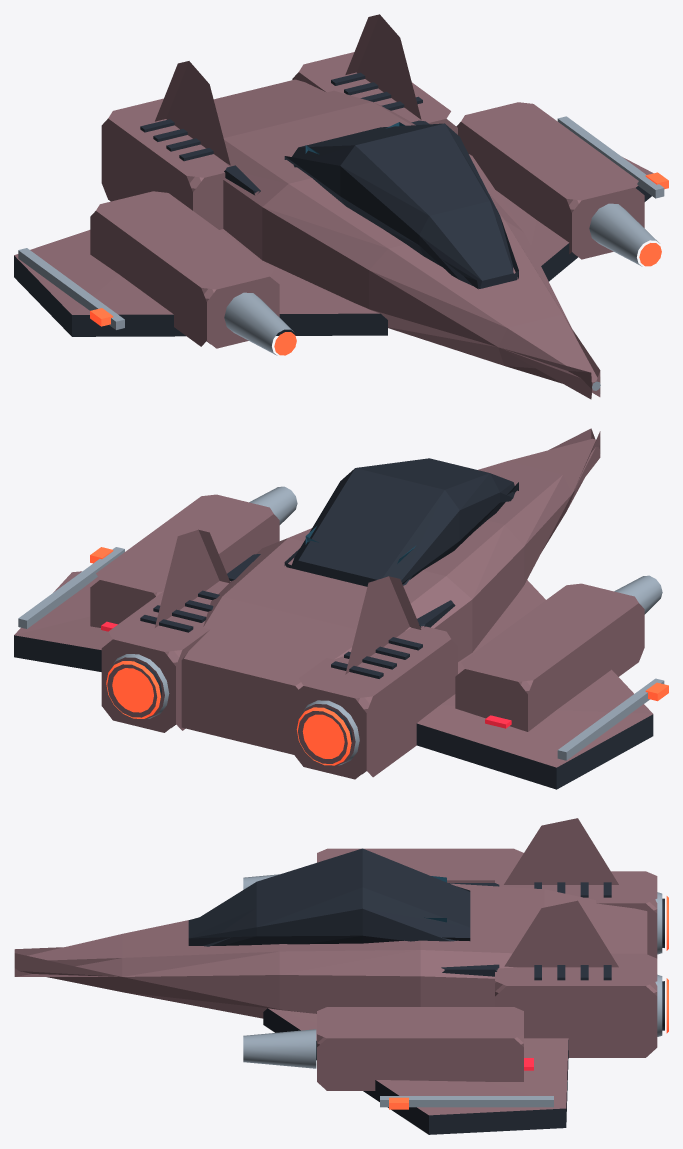
Rendered from siege_fighter.glb.
3 views of the same model, one above another, from view 1: azimuth 30°, elevation 25°; view 2: azimuth 150°, elevation 25°; view 3: azimuth 270°, elevation 25° (orthographic). The views are drawn at different scales.
Visible parts, largest first — view 1: Hull; view 2: Hull; view 3: Hull.
Boxes of the visible parts, <box> form: Hull: <box>14,14,668,399</box>; Hull: <box>14,428,668,789</box>; Hull: <box>14,818,668,1134</box>.
Bounding box in the file's own units: 3.6 × 0.99 × 3.96.
